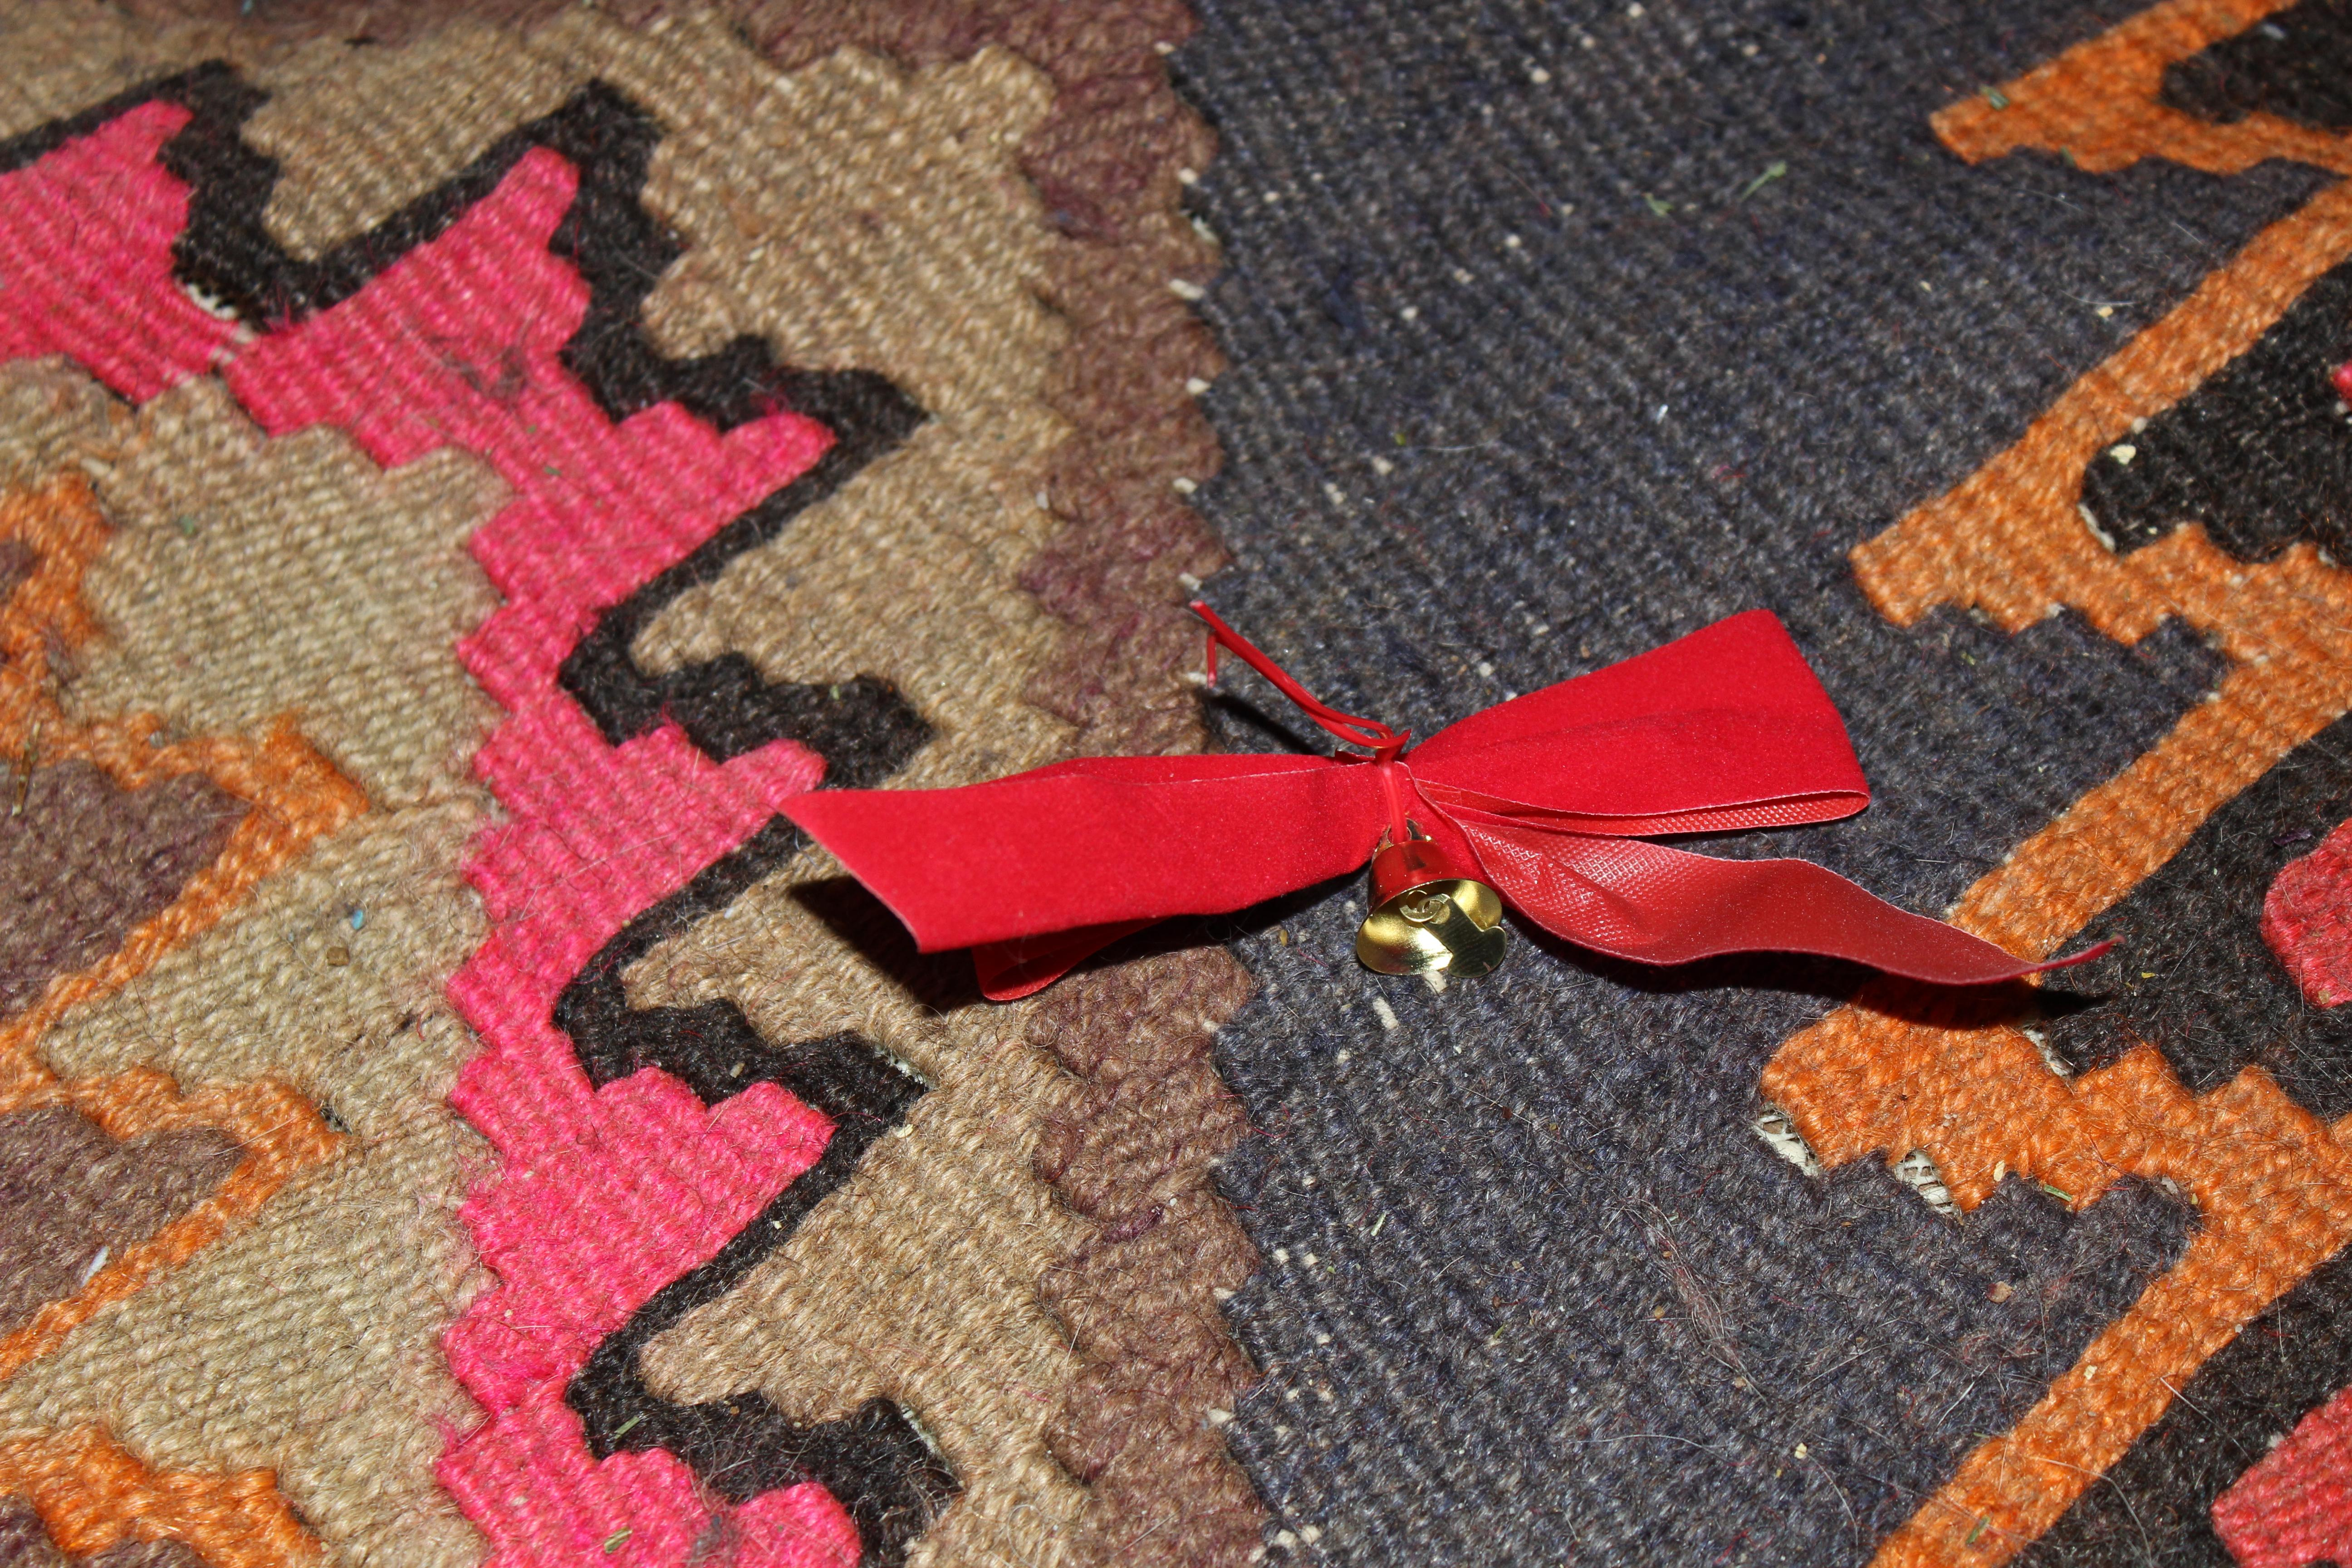redBow: (753, 563, 2145, 1055)
